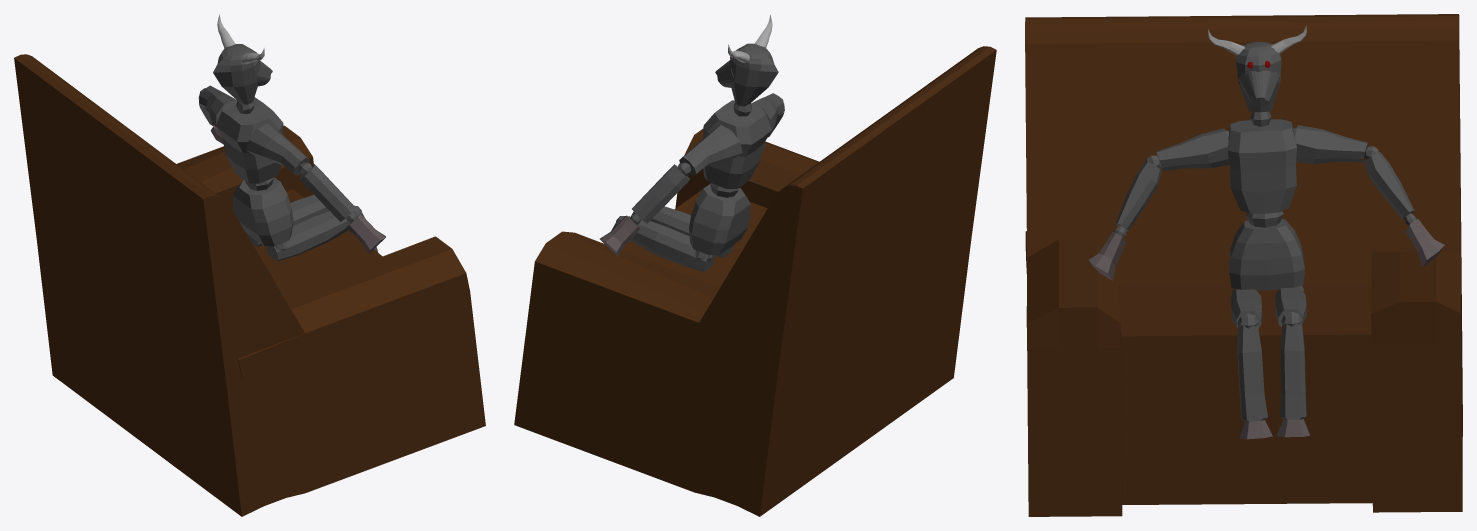
The model's file is harkaV2.fbx.
3 views of the same model, side by side, from view 1: azimuth 30°, elevation 25°; view 2: azimuth 150°, elevation 25°; view 3: azimuth 270°, elevation 25° (orthographic). The views are drawn at different scales.
Parts seen in each view (by area): view 1: Tuoli, Cube.002; view 2: Tuoli, Cube.002; view 3: Tuoli, Cube.002.
Part boxes in pixels (x1,y1,x2,y2): Tuoli: [14, 54, 485, 516]; Cube.002: [198, 14, 385, 261]; Tuoli: [514, 46, 996, 516]; Cube.002: [599, 15, 784, 271]; Tuoli: [1025, 14, 1462, 516]; Cube.002: [1089, 25, 1444, 439].
Bounding box in the file's own units: 388 × 506 × 449.
